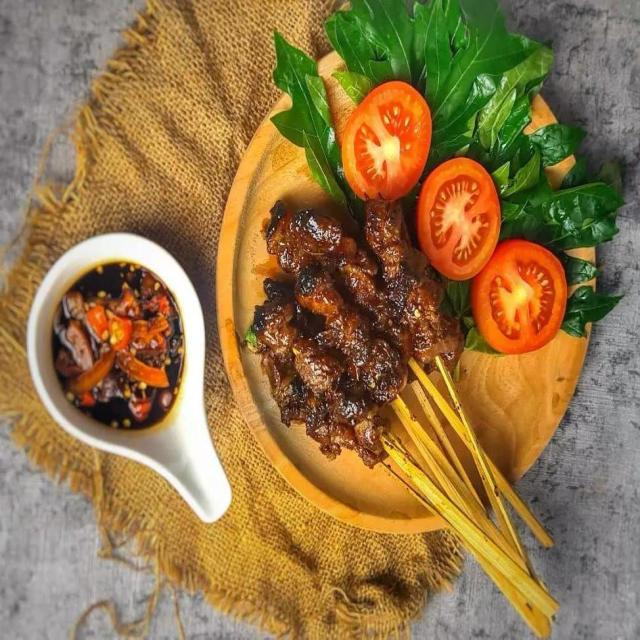Sate: (241, 201, 553, 597)
